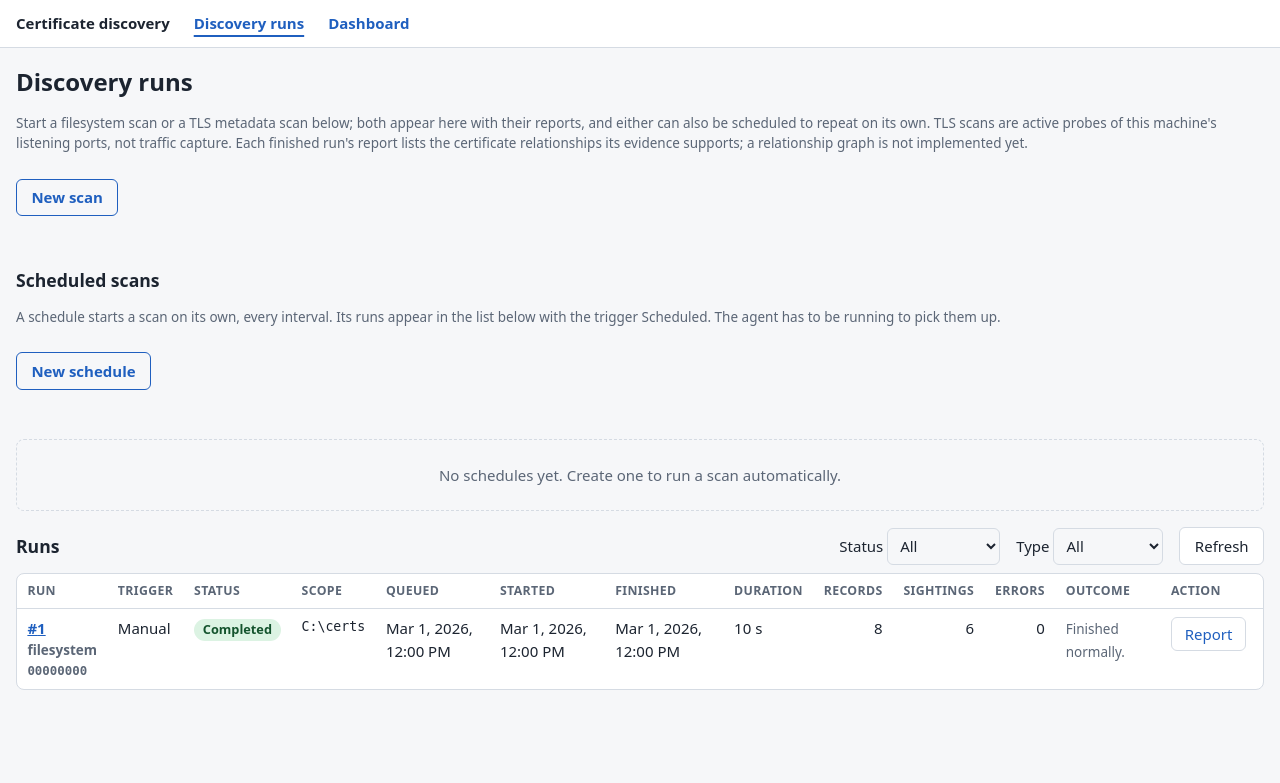
the Dashboard in the app › opens from its link, marks itself current, and asks for dashboard data only then
The width and height of the screenshot is (1280, 783).
Click the link "Dashboard": x=369, y=23 [328, 12, 410, 34]
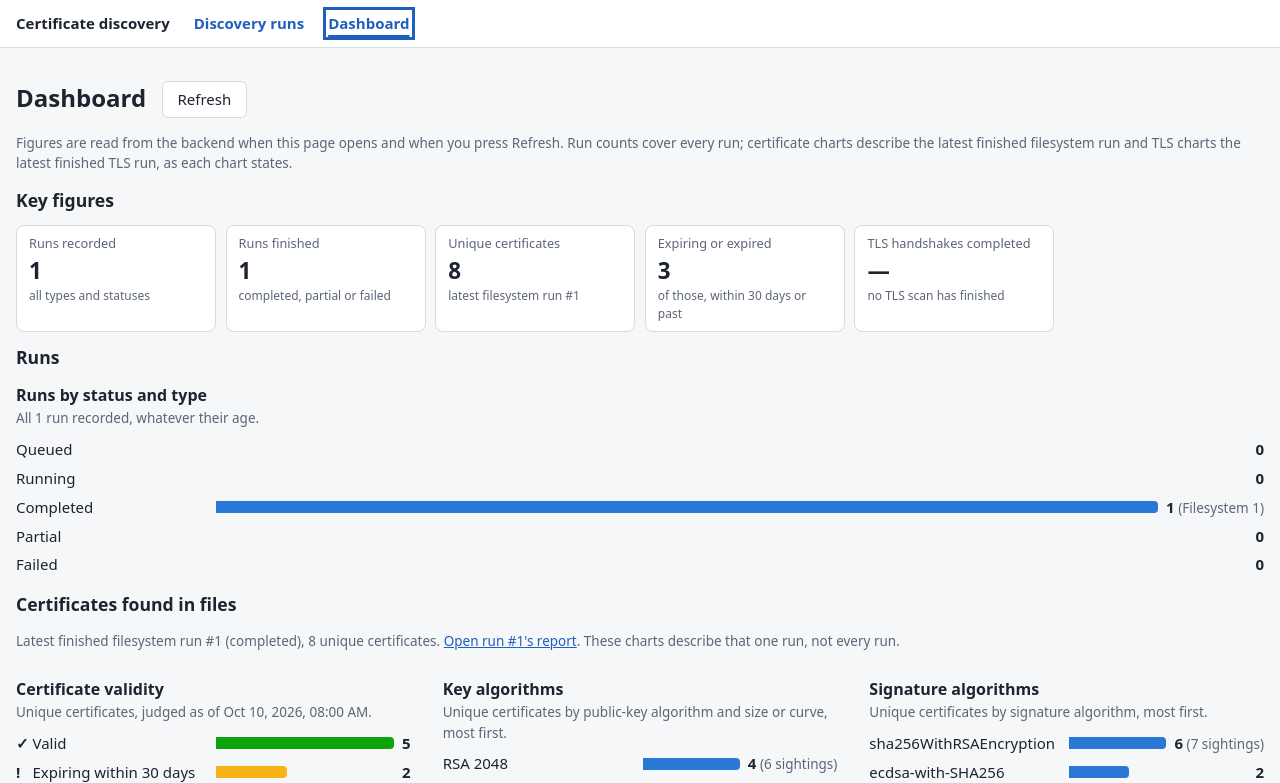
Result: the heading "Dashboard" is shown at [16, 80, 146, 116]
Result: the element "Runs by status and type" is shown at [16, 382, 1264, 579]
